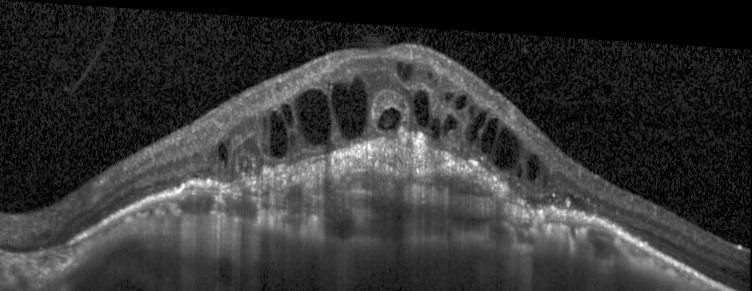intraretinal_cyst: (331, 71, 368, 136), (296, 83, 331, 140), (495, 120, 519, 162), (268, 106, 288, 155), (466, 104, 487, 135), (413, 84, 430, 120), (481, 111, 498, 147), (377, 102, 402, 125), (526, 146, 541, 172), (396, 56, 413, 77), (443, 108, 459, 130), (282, 100, 295, 123), (218, 139, 229, 164), (430, 111, 441, 132), (456, 87, 467, 103), (290, 127, 296, 142), (445, 86, 455, 94), (517, 157, 522, 173), (469, 99, 475, 110), (427, 65, 434, 73)
subretinal_hyperreflective_material: (226, 123, 545, 218)
